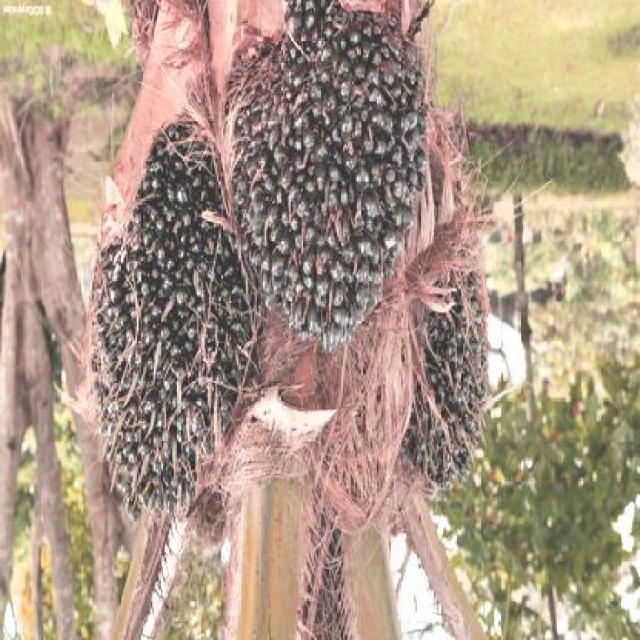palm-oil: (229, 11, 434, 324), (133, 124, 267, 426), (87, 231, 225, 523), (412, 219, 496, 487)
